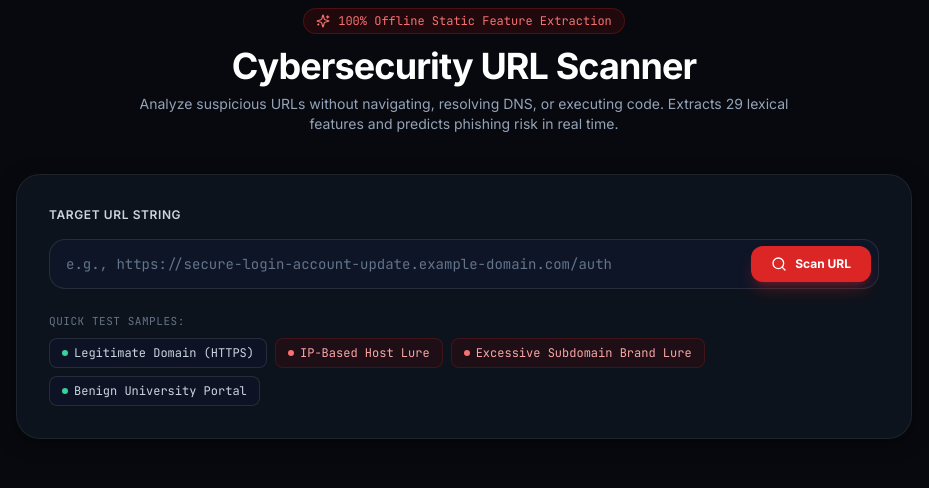
Test: UrlScanner Component › rejects unsupported javascript: and data: schemes
This screenshot has width=929, height=488.
Replace the text in the field with placeholder "e.g., https://" with "javascript:alert(1)". click: (464, 264)
box: [49,239,879,289]
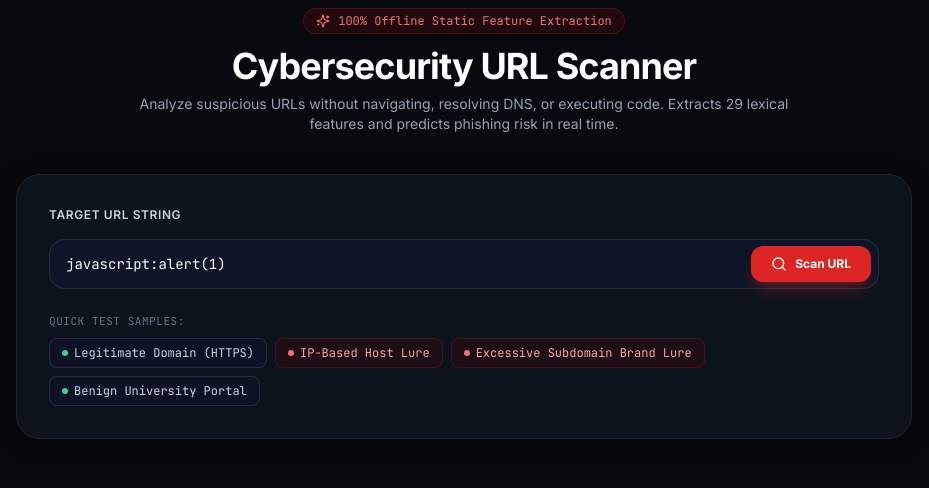
Click the button "Scan URL". click: click(811, 264)
box: [751,246,871,282]
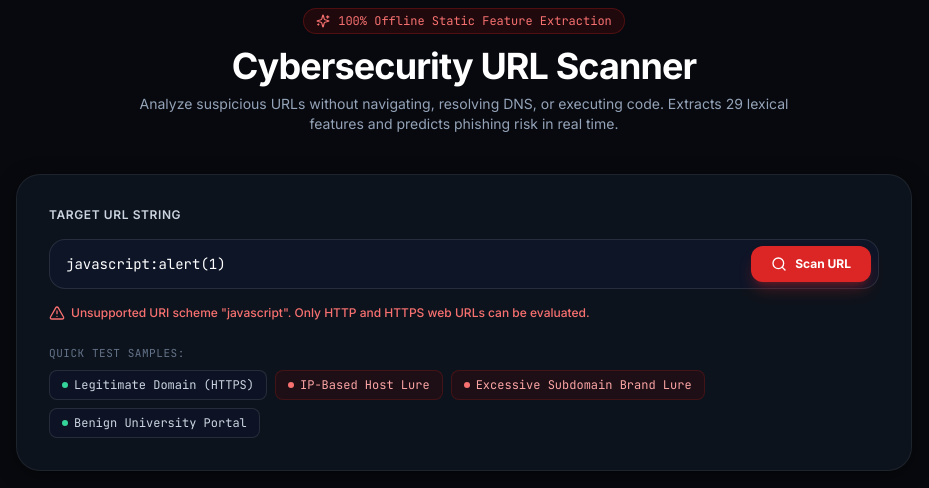
Expected: the text "Unsupported URI scheme" is shown, [71,305,590,320]
